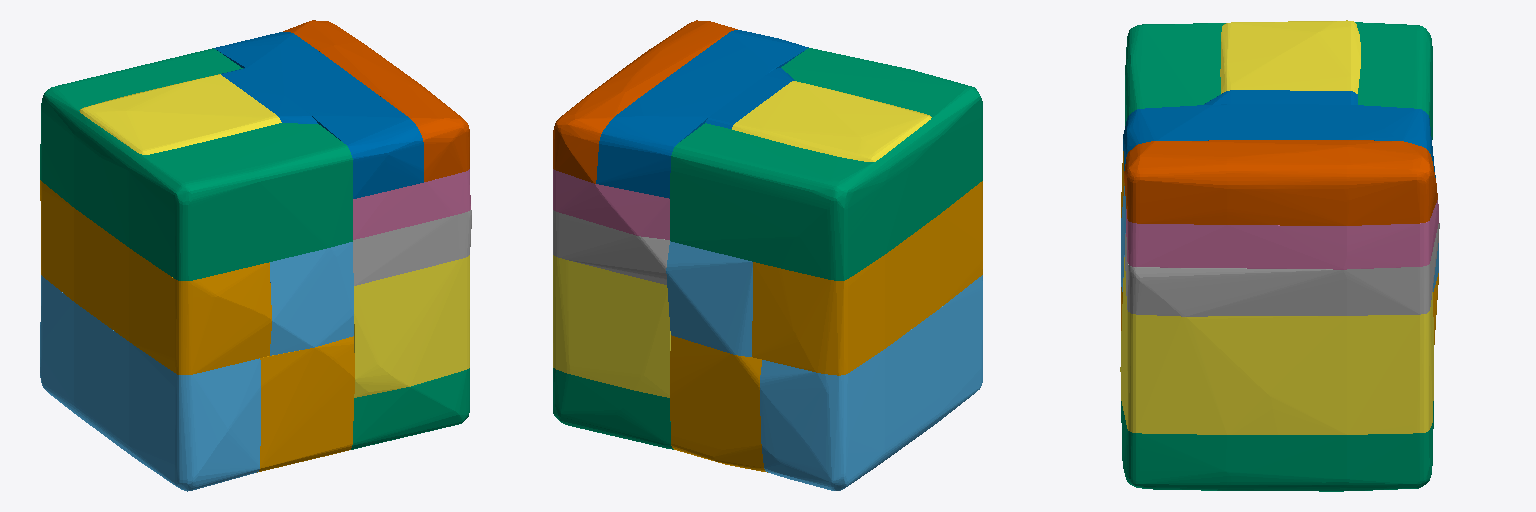
URDF robot description (root):
<?xml version='1.0' encoding='UTF-8'?>
<robot name="root">
  <link name="link_convex_piece_000.obj">
    <inertial>
      <origin xyz="0 0 0" rpy="0 0 0"/>
    </inertial>
    <visual>
      <origin xyz="0 0 0" rpy="0 0 0"/>
      <geometry>
        <mesh filename="meshes/convex_piece_000.obj" scale="1.0 1.0 1.0"/>
      </geometry>
    </visual>
    <collision>
      <origin xyz="0 0 0" rpy="0 0 0"/>
      <geometry>
        <mesh filename="meshes/convex_piece_000.obj" scale="1.0 1.0 1.0"/>
      </geometry>
    </collision>
  </link>
  <link name="link_convex_piece_001.obj">
    <inertial>
      <origin xyz="0 0 0" rpy="0 0 0"/>
    </inertial>
    <visual>
      <origin xyz="0 0 0" rpy="0 0 0"/>
      <geometry>
        <mesh filename="meshes/convex_piece_001.obj" scale="1.0 1.0 1.0"/>
      </geometry>
    </visual>
    <collision>
      <origin xyz="0 0 0" rpy="0 0 0"/>
      <geometry>
        <mesh filename="meshes/convex_piece_001.obj" scale="1.0 1.0 1.0"/>
      </geometry>
    </collision>
  </link>
  <link name="link_convex_piece_002.obj">
    <inertial>
      <origin xyz="0 0 0" rpy="0 0 0"/>
    </inertial>
    <visual>
      <origin xyz="0 0 0" rpy="0 0 0"/>
      <geometry>
        <mesh filename="meshes/convex_piece_002.obj" scale="1.0 1.0 1.0"/>
      </geometry>
    </visual>
    <collision>
      <origin xyz="0 0 0" rpy="0 0 0"/>
      <geometry>
        <mesh filename="meshes/convex_piece_002.obj" scale="1.0 1.0 1.0"/>
      </geometry>
    </collision>
  </link>
  <link name="link_convex_piece_003.obj">
    <inertial>
      <origin xyz="0 0 0" rpy="0 0 0"/>
    </inertial>
    <visual>
      <origin xyz="0 0 0" rpy="0 0 0"/>
      <geometry>
        <mesh filename="meshes/convex_piece_003.obj" scale="1.0 1.0 1.0"/>
      </geometry>
    </visual>
    <collision>
      <origin xyz="0 0 0" rpy="0 0 0"/>
      <geometry>
        <mesh filename="meshes/convex_piece_003.obj" scale="1.0 1.0 1.0"/>
      </geometry>
    </collision>
  </link>
  <link name="link_convex_piece_004.obj">
    <inertial>
      <origin xyz="0 0 0" rpy="0 0 0"/>
    </inertial>
    <visual>
      <origin xyz="0 0 0" rpy="0 0 0"/>
      <geometry>
        <mesh filename="meshes/convex_piece_004.obj" scale="1.0 1.0 1.0"/>
      </geometry>
    </visual>
    <collision>
      <origin xyz="0 0 0" rpy="0 0 0"/>
      <geometry>
        <mesh filename="meshes/convex_piece_004.obj" scale="1.0 1.0 1.0"/>
      </geometry>
    </collision>
  </link>
  <link name="link_convex_piece_005.obj">
    <inertial>
      <origin xyz="0 0 0" rpy="0 0 0"/>
    </inertial>
    <visual>
      <origin xyz="0 0 0" rpy="0 0 0"/>
      <geometry>
        <mesh filename="meshes/convex_piece_005.obj" scale="1.0 1.0 1.0"/>
      </geometry>
    </visual>
    <collision>
      <origin xyz="0 0 0" rpy="0 0 0"/>
      <geometry>
        <mesh filename="meshes/convex_piece_005.obj" scale="1.0 1.0 1.0"/>
      </geometry>
    </collision>
  </link>
  <link name="link_convex_piece_006.obj">
    <inertial>
      <origin xyz="0 0 0" rpy="0 0 0"/>
    </inertial>
    <visual>
      <origin xyz="0 0 0" rpy="0 0 0"/>
      <geometry>
        <mesh filename="meshes/convex_piece_006.obj" scale="1.0 1.0 1.0"/>
      </geometry>
    </visual>
    <collision>
      <origin xyz="0 0 0" rpy="0 0 0"/>
      <geometry>
        <mesh filename="meshes/convex_piece_006.obj" scale="1.0 1.0 1.0"/>
      </geometry>
    </collision>
  </link>
  <link name="link_convex_piece_007.obj">
    <inertial>
      <origin xyz="0 0 0" rpy="0 0 0"/>
    </inertial>
    <visual>
      <origin xyz="0 0 0" rpy="0 0 0"/>
      <geometry>
        <mesh filename="meshes/convex_piece_007.obj" scale="1.0 1.0 1.0"/>
      </geometry>
    </visual>
    <collision>
      <origin xyz="0 0 0" rpy="0 0 0"/>
      <geometry>
        <mesh filename="meshes/convex_piece_007.obj" scale="1.0 1.0 1.0"/>
      </geometry>
    </collision>
  </link>
  <link name="link_convex_piece_008.obj">
    <inertial>
      <origin xyz="0 0 0" rpy="0 0 0"/>
    </inertial>
    <visual>
      <origin xyz="0 0 0" rpy="0 0 0"/>
      <geometry>
        <mesh filename="meshes/convex_piece_008.obj" scale="1.0 1.0 1.0"/>
      </geometry>
    </visual>
    <collision>
      <origin xyz="0 0 0" rpy="0 0 0"/>
      <geometry>
        <mesh filename="meshes/convex_piece_008.obj" scale="1.0 1.0 1.0"/>
      </geometry>
    </collision>
  </link>
  <link name="link_convex_piece_009.obj">
    <inertial>
      <origin xyz="0 0 0" rpy="0 0 0"/>
    </inertial>
    <visual>
      <origin xyz="0 0 0" rpy="0 0 0"/>
      <geometry>
        <mesh filename="meshes/convex_piece_009.obj" scale="1.0 1.0 1.0"/>
      </geometry>
    </visual>
    <collision>
      <origin xyz="0 0 0" rpy="0 0 0"/>
      <geometry>
        <mesh filename="meshes/convex_piece_009.obj" scale="1.0 1.0 1.0"/>
      </geometry>
    </collision>
  </link>
  <link name="link_convex_piece_010.obj">
    <inertial>
      <origin xyz="0 0 0" rpy="0 0 0"/>
    </inertial>
    <visual>
      <origin xyz="0 0 0" rpy="0 0 0"/>
      <geometry>
        <mesh filename="meshes/convex_piece_010.obj" scale="1.0 1.0 1.0"/>
      </geometry>
    </visual>
    <collision>
      <origin xyz="0 0 0" rpy="0 0 0"/>
      <geometry>
        <mesh filename="meshes/convex_piece_010.obj" scale="1.0 1.0 1.0"/>
      </geometry>
    </collision>
  </link>
  <link name="link_convex_piece_011.obj">
    <inertial>
      <origin xyz="0 0 0" rpy="0 0 0"/>
    </inertial>
    <visual>
      <origin xyz="0 0 0" rpy="0 0 0"/>
      <geometry>
        <mesh filename="meshes/convex_piece_011.obj" scale="1.0 1.0 1.0"/>
      </geometry>
    </visual>
    <collision>
      <origin xyz="0 0 0" rpy="0 0 0"/>
      <geometry>
        <mesh filename="meshes/convex_piece_011.obj" scale="1.0 1.0 1.0"/>
      </geometry>
    </collision>
  </link>
  <link name="link_convex_piece_012.obj">
    <inertial>
      <origin xyz="0 0 0" rpy="0 0 0"/>
    </inertial>
    <visual>
      <origin xyz="0 0 0" rpy="0 0 0"/>
      <geometry>
        <mesh filename="meshes/convex_piece_012.obj" scale="1.0 1.0 1.0"/>
      </geometry>
    </visual>
    <collision>
      <origin xyz="0 0 0" rpy="0 0 0"/>
      <geometry>
        <mesh filename="meshes/convex_piece_012.obj" scale="1.0 1.0 1.0"/>
      </geometry>
    </collision>
  </link>
  <joint name="link_convex_piece_001.obj_joint" type="fixed">
    <origin xyz="0 0 0" rpy="0 0 0"/>
    <parent link="link_convex_piece_000.obj"/>
    <child link="link_convex_piece_001.obj"/>
  </joint>
  <joint name="link_convex_piece_002.obj_joint" type="fixed">
    <origin xyz="0 0 0" rpy="0 0 0"/>
    <parent link="link_convex_piece_000.obj"/>
    <child link="link_convex_piece_002.obj"/>
  </joint>
  <joint name="link_convex_piece_003.obj_joint" type="fixed">
    <origin xyz="0 0 0" rpy="0 0 0"/>
    <parent link="link_convex_piece_000.obj"/>
    <child link="link_convex_piece_003.obj"/>
  </joint>
  <joint name="link_convex_piece_004.obj_joint" type="fixed">
    <origin xyz="0 0 0" rpy="0 0 0"/>
    <parent link="link_convex_piece_000.obj"/>
    <child link="link_convex_piece_004.obj"/>
  </joint>
  <joint name="link_convex_piece_005.obj_joint" type="fixed">
    <origin xyz="0 0 0" rpy="0 0 0"/>
    <parent link="link_convex_piece_000.obj"/>
    <child link="link_convex_piece_005.obj"/>
  </joint>
  <joint name="link_convex_piece_006.obj_joint" type="fixed">
    <origin xyz="0 0 0" rpy="0 0 0"/>
    <parent link="link_convex_piece_000.obj"/>
    <child link="link_convex_piece_006.obj"/>
  </joint>
  <joint name="link_convex_piece_007.obj_joint" type="fixed">
    <origin xyz="0 0 0" rpy="0 0 0"/>
    <parent link="link_convex_piece_000.obj"/>
    <child link="link_convex_piece_007.obj"/>
  </joint>
  <joint name="link_convex_piece_008.obj_joint" type="fixed">
    <origin xyz="0 0 0" rpy="0 0 0"/>
    <parent link="link_convex_piece_000.obj"/>
    <child link="link_convex_piece_008.obj"/>
  </joint>
  <joint name="link_convex_piece_009.obj_joint" type="fixed">
    <origin xyz="0 0 0" rpy="0 0 0"/>
    <parent link="link_convex_piece_000.obj"/>
    <child link="link_convex_piece_009.obj"/>
  </joint>
  <joint name="link_convex_piece_010.obj_joint" type="fixed">
    <origin xyz="0 0 0" rpy="0 0 0"/>
    <parent link="link_convex_piece_000.obj"/>
    <child link="link_convex_piece_010.obj"/>
  </joint>
  <joint name="link_convex_piece_011.obj_joint" type="fixed">
    <origin xyz="0 0 0" rpy="0 0 0"/>
    <parent link="link_convex_piece_000.obj"/>
    <child link="link_convex_piece_011.obj"/>
  </joint>
  <joint name="link_convex_piece_012.obj_joint" type="fixed">
    <origin xyz="0 0 0" rpy="0 0 0"/>
    <parent link="link_convex_piece_000.obj"/>
    <child link="link_convex_piece_012.obj"/>
  </joint>
</robot>

--- Facts derived from the render (not from the file) ---
Views: 3 orthographic renders of the robot side by side, from view 1: azimuth 30°, elevation 25°; view 2: azimuth 150°, elevation 25°; view 3: azimuth 270°, elevation 25°.
Robot: root — 13 links, 12 joints (12 fixed); root link link_convex_piece_000.obj; default pose: every joint at zero.
Visible links, largest first — view 1: link_convex_piece_010.obj, link_convex_piece_001.obj, link_convex_piece_008.obj, link_convex_piece_004.obj, link_convex_piece_003.obj, link_convex_piece_000.obj, link_convex_piece_011.obj, link_convex_piece_005.obj, link_convex_piece_009.obj, link_convex_piece_002.obj, link_convex_piece_007.obj, link_convex_piece_006.obj (+1 smaller); view 2: link_convex_piece_010.obj, link_convex_piece_001.obj, link_convex_piece_008.obj, link_convex_piece_004.obj, link_convex_piece_003.obj, link_convex_piece_000.obj, link_convex_piece_011.obj, link_convex_piece_009.obj, link_convex_piece_005.obj, link_convex_piece_002.obj, link_convex_piece_007.obj, link_convex_piece_006.obj (+1 smaller); view 3: link_convex_piece_003.obj, link_convex_piece_005.obj, link_convex_piece_002.obj, link_convex_piece_007.obj, link_convex_piece_010.obj, link_convex_piece_006.obj, link_convex_piece_004.obj, link_convex_piece_011.obj, link_convex_piece_012.obj.
Boxes of the visible links, box(x1,y1,x2,y2) form: link_convex_piece_010.obj: box(40, 48, 352, 280); link_convex_piece_001.obj: box(40, 275, 260, 491); link_convex_piece_008.obj: box(40, 180, 271, 374); link_convex_piece_004.obj: box(214, 32, 423, 198); link_convex_piece_003.obj: box(354, 255, 469, 397); link_convex_piece_000.obj: box(257, 336, 354, 472); link_convex_piece_011.obj: box(79, 74, 281, 154); link_convex_piece_005.obj: box(283, 20, 469, 181); link_convex_piece_009.obj: box(270, 242, 353, 355); link_convex_piece_002.obj: box(351, 368, 469, 449); link_convex_piece_007.obj: box(353, 210, 471, 285); link_convex_piece_006.obj: box(353, 169, 470, 239); link_convex_piece_010.obj: box(670, 48, 982, 280); link_convex_piece_001.obj: box(760, 275, 982, 490); link_convex_piece_008.obj: box(752, 181, 982, 375); link_convex_piece_004.obj: box(596, 30, 808, 198); link_convex_piece_003.obj: box(553, 255, 670, 397); link_convex_piece_000.obj: box(670, 335, 767, 472); link_convex_piece_011.obj: box(732, 81, 931, 161); link_convex_piece_009.obj: box(666, 241, 752, 356); link_convex_piece_005.obj: box(553, 20, 737, 183); link_convex_piece_002.obj: box(553, 368, 673, 449); link_convex_piece_007.obj: box(553, 210, 669, 284); link_convex_piece_006.obj: box(553, 169, 669, 239); link_convex_piece_003.obj: box(1120, 257, 1433, 434); link_convex_piece_005.obj: box(1124, 140, 1437, 225); link_convex_piece_002.obj: box(1121, 401, 1433, 491); link_convex_piece_007.obj: box(1125, 223, 1439, 316); link_convex_piece_010.obj: box(1125, 22, 1432, 139); link_convex_piece_006.obj: box(1126, 200, 1438, 269); link_convex_piece_004.obj: box(1123, 104, 1435, 177); link_convex_piece_011.obj: box(1220, 20, 1360, 93); link_convex_piece_012.obj: box(1204, 90, 1357, 104).
Size in the robot's own frame: 0.0758 by 0.0657 by 0.0758 metres.
13 mesh visuals loaded from 13 distinct referenced files (13 OBJ).
